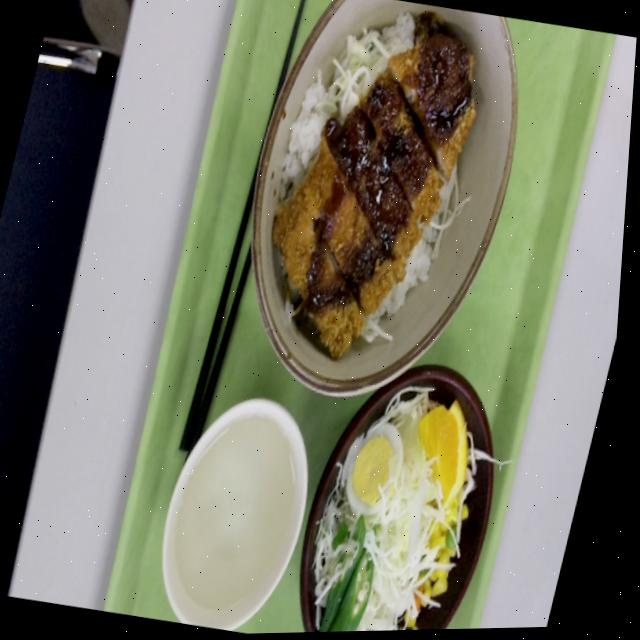蔬菜料理: (292, 360, 531, 634)
